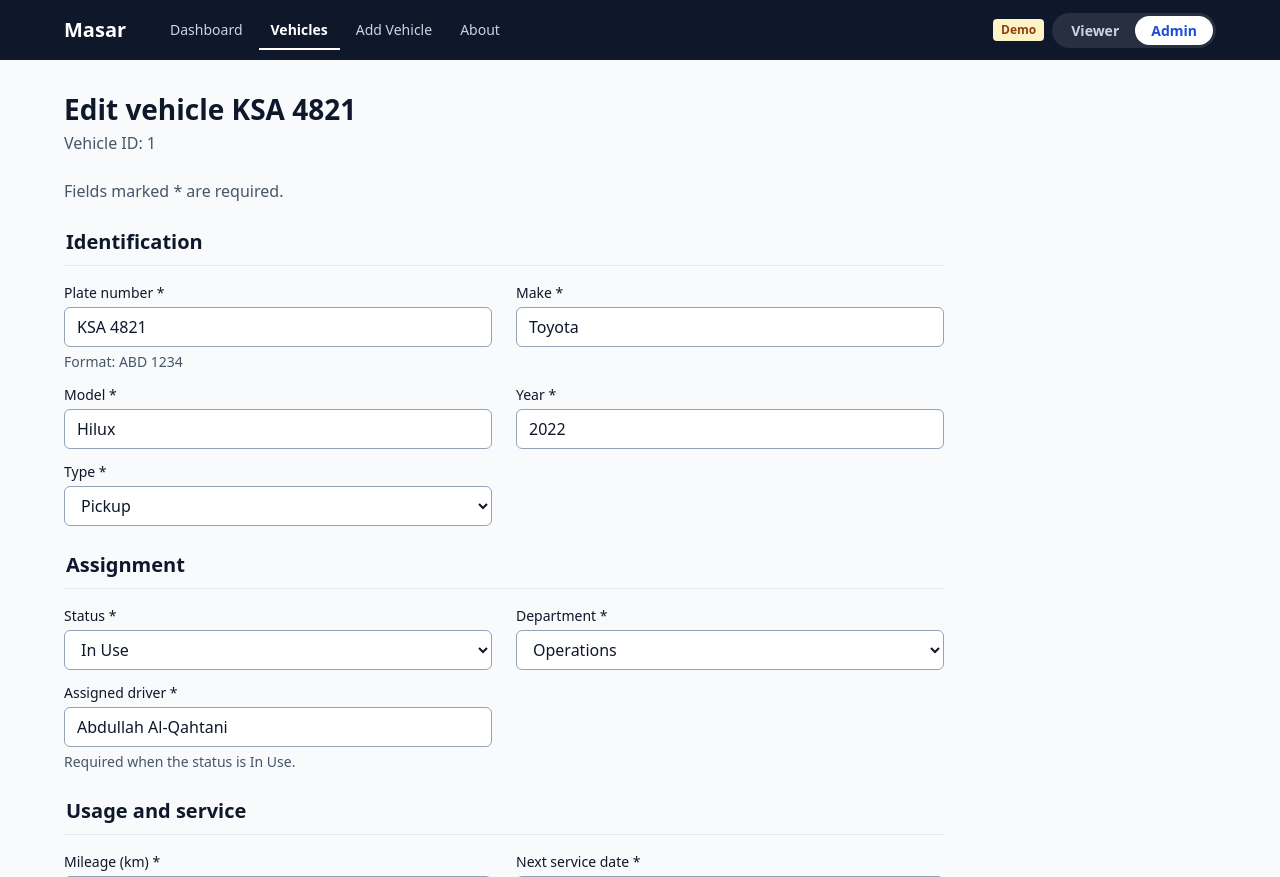
Test: Edit vehicle (US-5) › clears and disables the driver when the status becomes Retired (V-DR-2)
Select "Retired" in the dropdown labelled "Status *" at (278, 650), box [64,630,492,670]
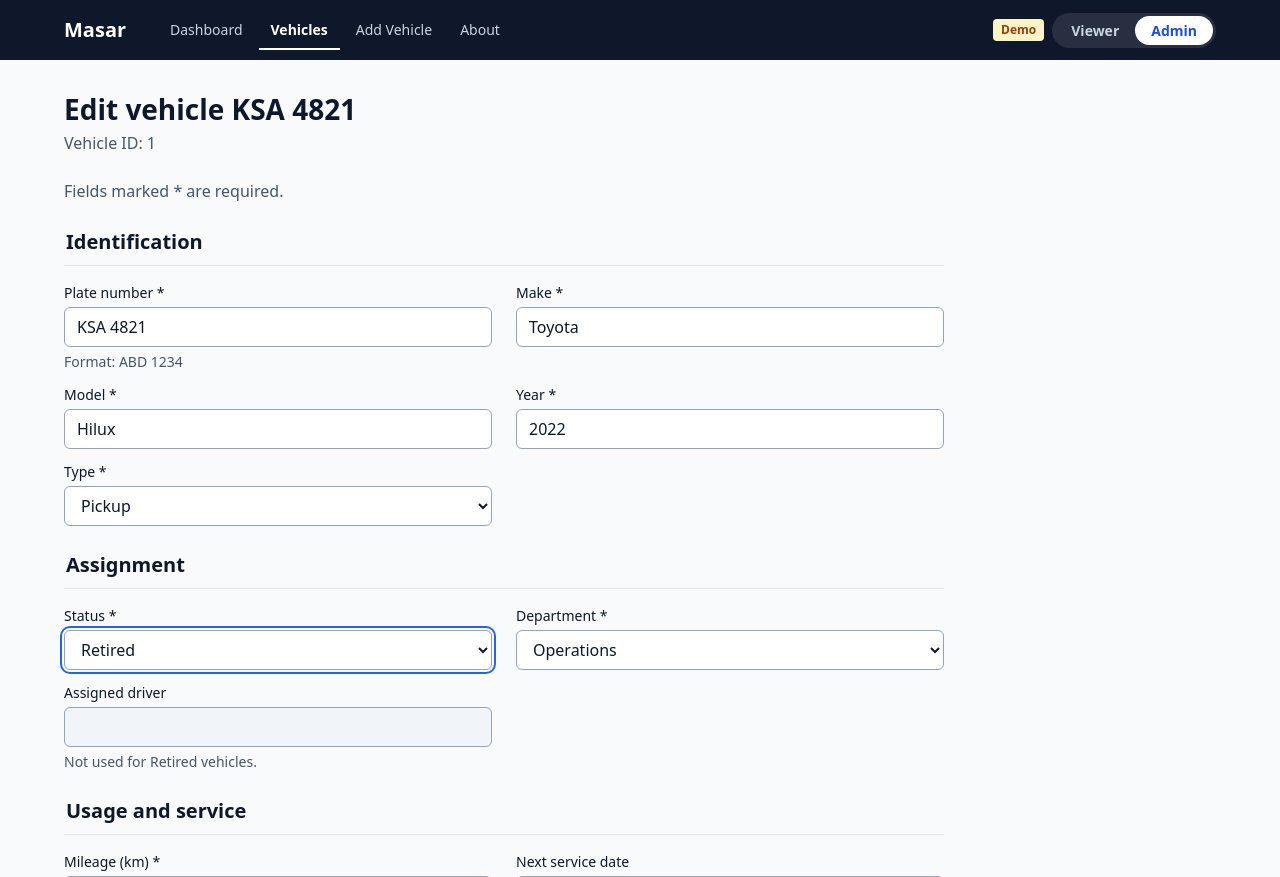
Now the field labelled "Assigned driver" is empty, box [64,707,492,747]
Now the field labelled "Assigned driver" is disabled, box [64,707,492,747]
